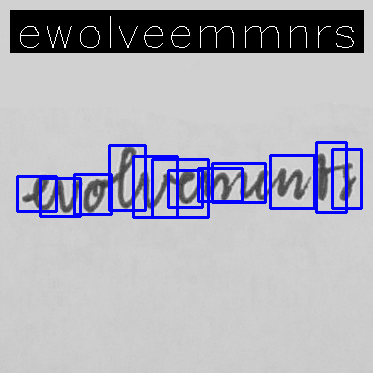e: (28, 172, 52, 212), (174, 166, 197, 206), (251, 167, 272, 202)
l: (114, 142, 138, 210)
m: (199, 167, 249, 203)
n: (275, 165, 306, 202)
o: (82, 177, 108, 214)
s: (337, 159, 357, 203)
t: (310, 150, 333, 204)
v: (138, 168, 171, 211), (53, 175, 81, 214)
